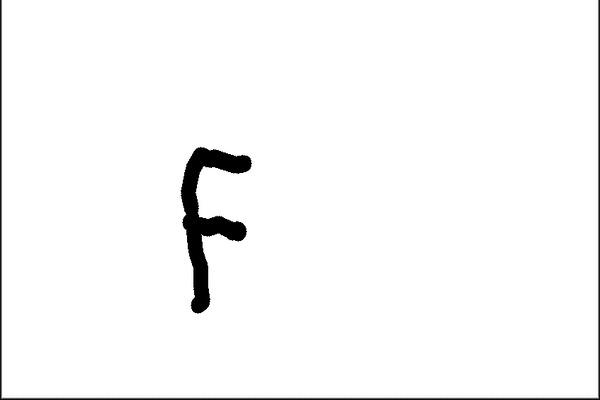F: (174, 142, 257, 318)
